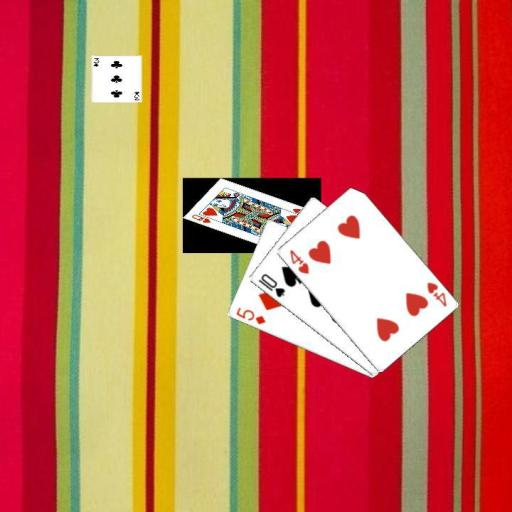10S: (255, 270, 287, 299)
4H: (423, 279, 448, 308), (286, 246, 310, 275)
5D: (233, 304, 267, 326)
